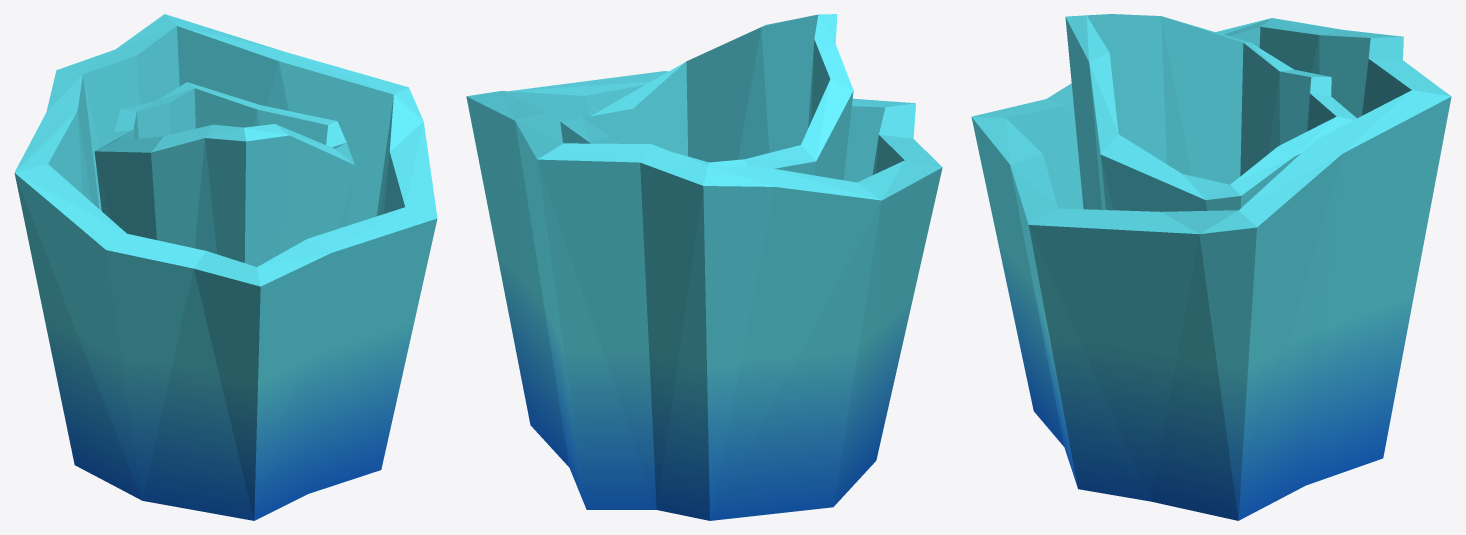
File: SM_Coral_21.fbx
3 renders of one model, left to right at view 1: azimuth 30°, elevation 25°; view 2: azimuth 150°, elevation 25°; view 3: azimuth 270°, elevation 25°, orthographic. The views are drawn at different scales.
Visible parts, largest first — view 1: Coral_21; view 2: Coral_21; view 3: Coral_21.
Boxes of the visible parts, <box> form: Coral_21: <box>14,14,437,520</box>; Coral_21: <box>466,14,942,520</box>; Coral_21: <box>971,14,1451,520</box>.
Bounding box in the file's own units: 96.31 × 88.36 × 95.35.
